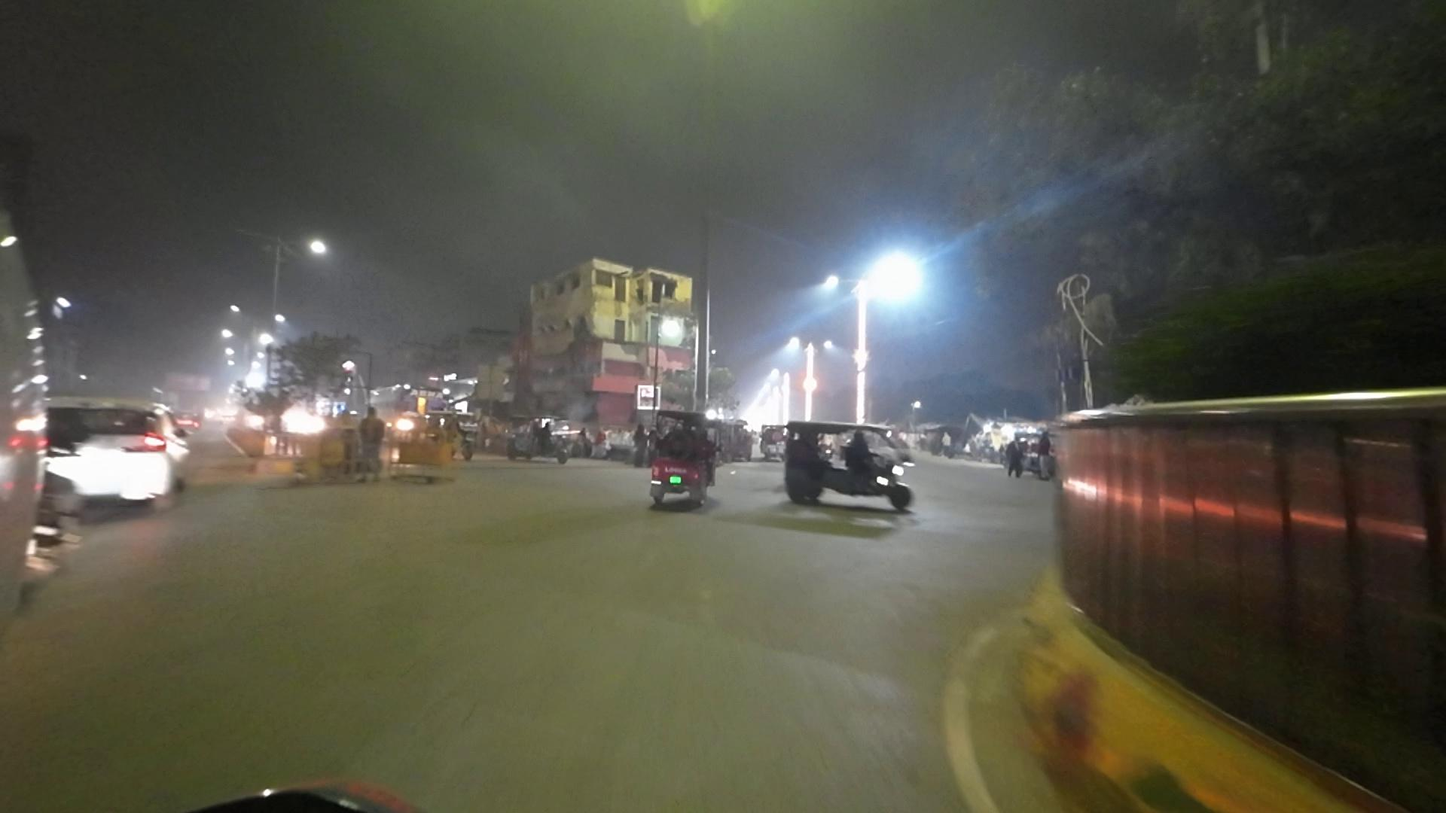streetlight: (233, 223, 276, 245)
